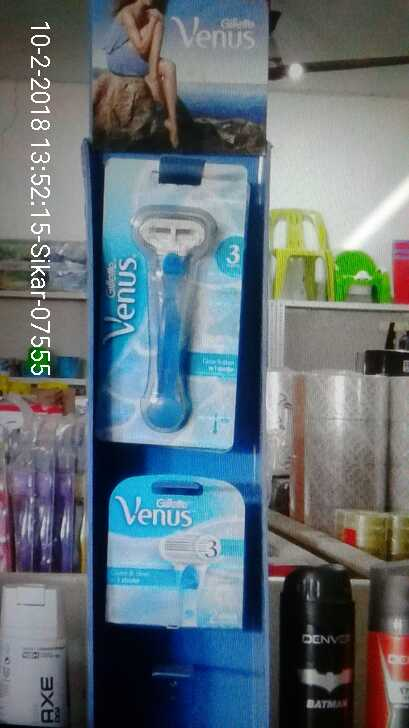venus: (106, 166, 229, 444), (108, 476, 252, 634)
